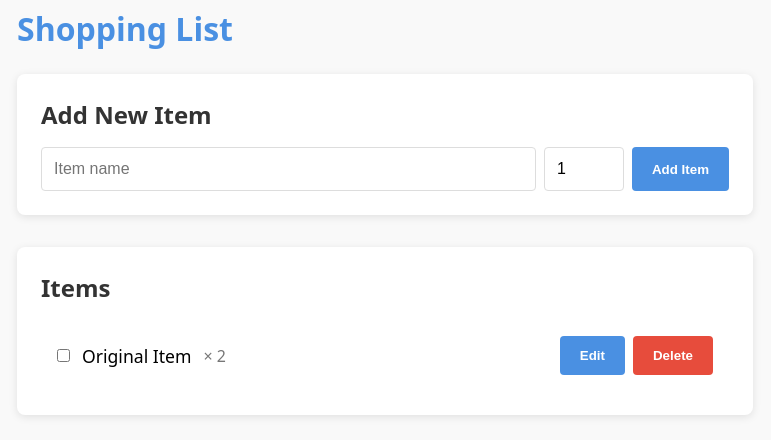
it: App Component - Edit and Delete Tests › can cancel editing an item without saving changes
Check: the text "Original Item" is shown, box [82,344,192,368]
Note: Click edit button
Click the button "Edit" at (592, 356), box [560,336,625,375]
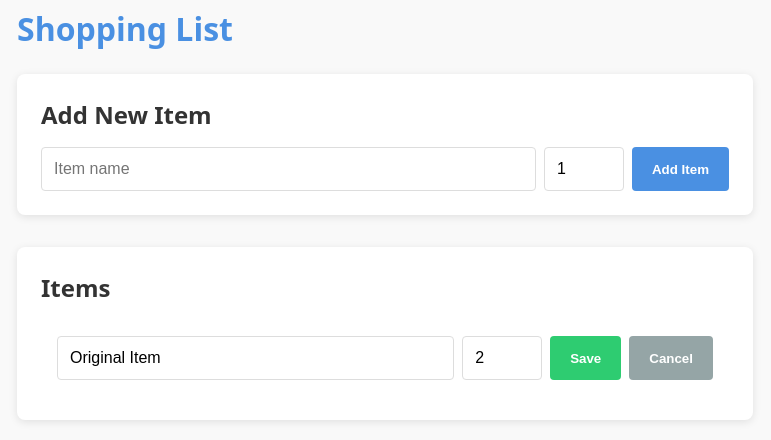
Replace the text in the field showing "Original Item" with "Changed Name" at (256, 358), box [57,336,454,380]
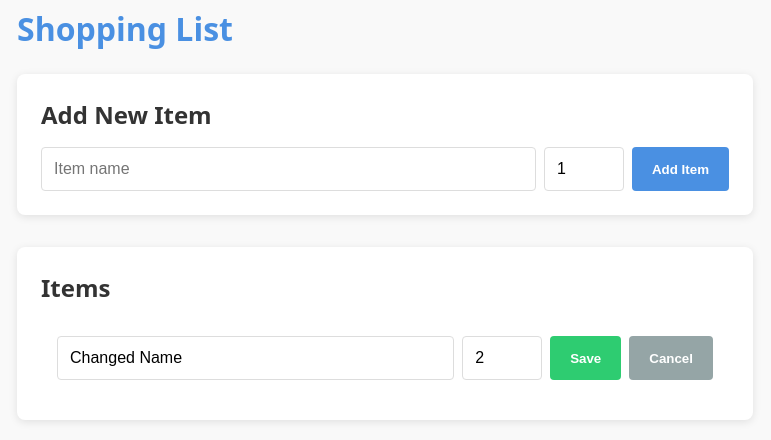
Replace the text in the 2nd number field showing "2" with "5" at (502, 358), box [462,336,542,380]
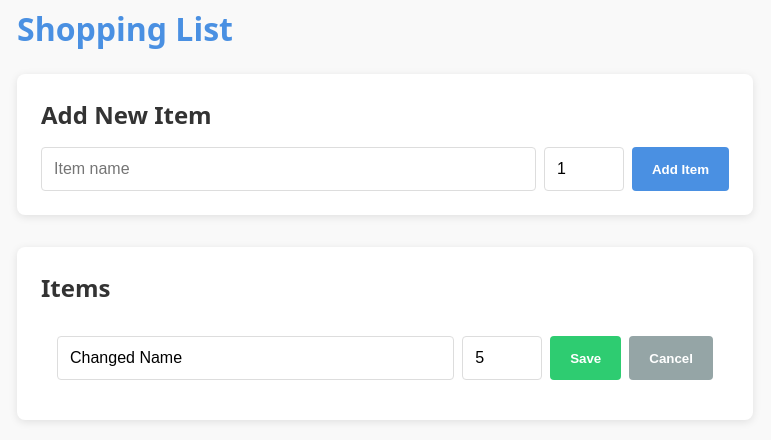
Note: Click cancel button
Click the button "Cancel" at (671, 358), box [629,336,713,380]
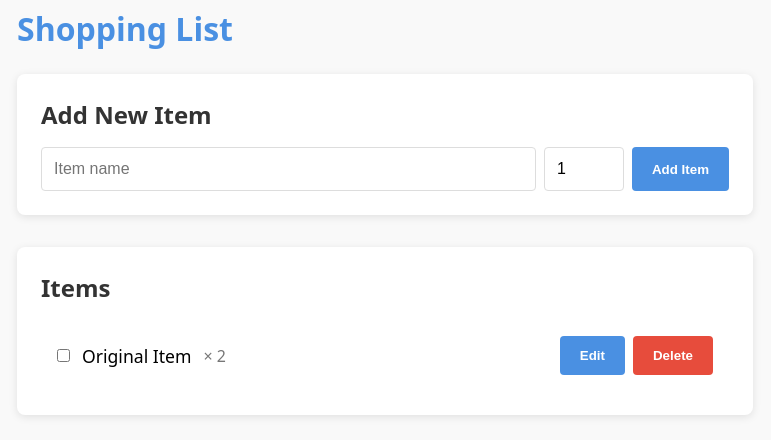
Check: the text "Original Item" is shown, box [82,344,192,368]
